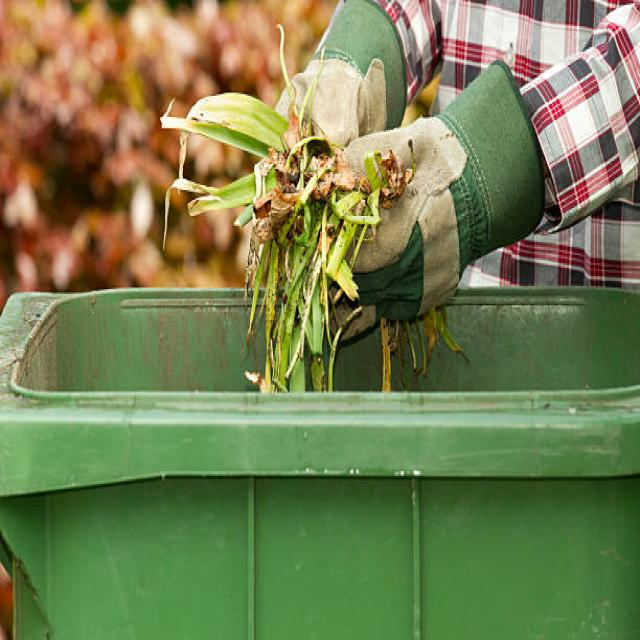trash: (165, 110, 367, 377)
